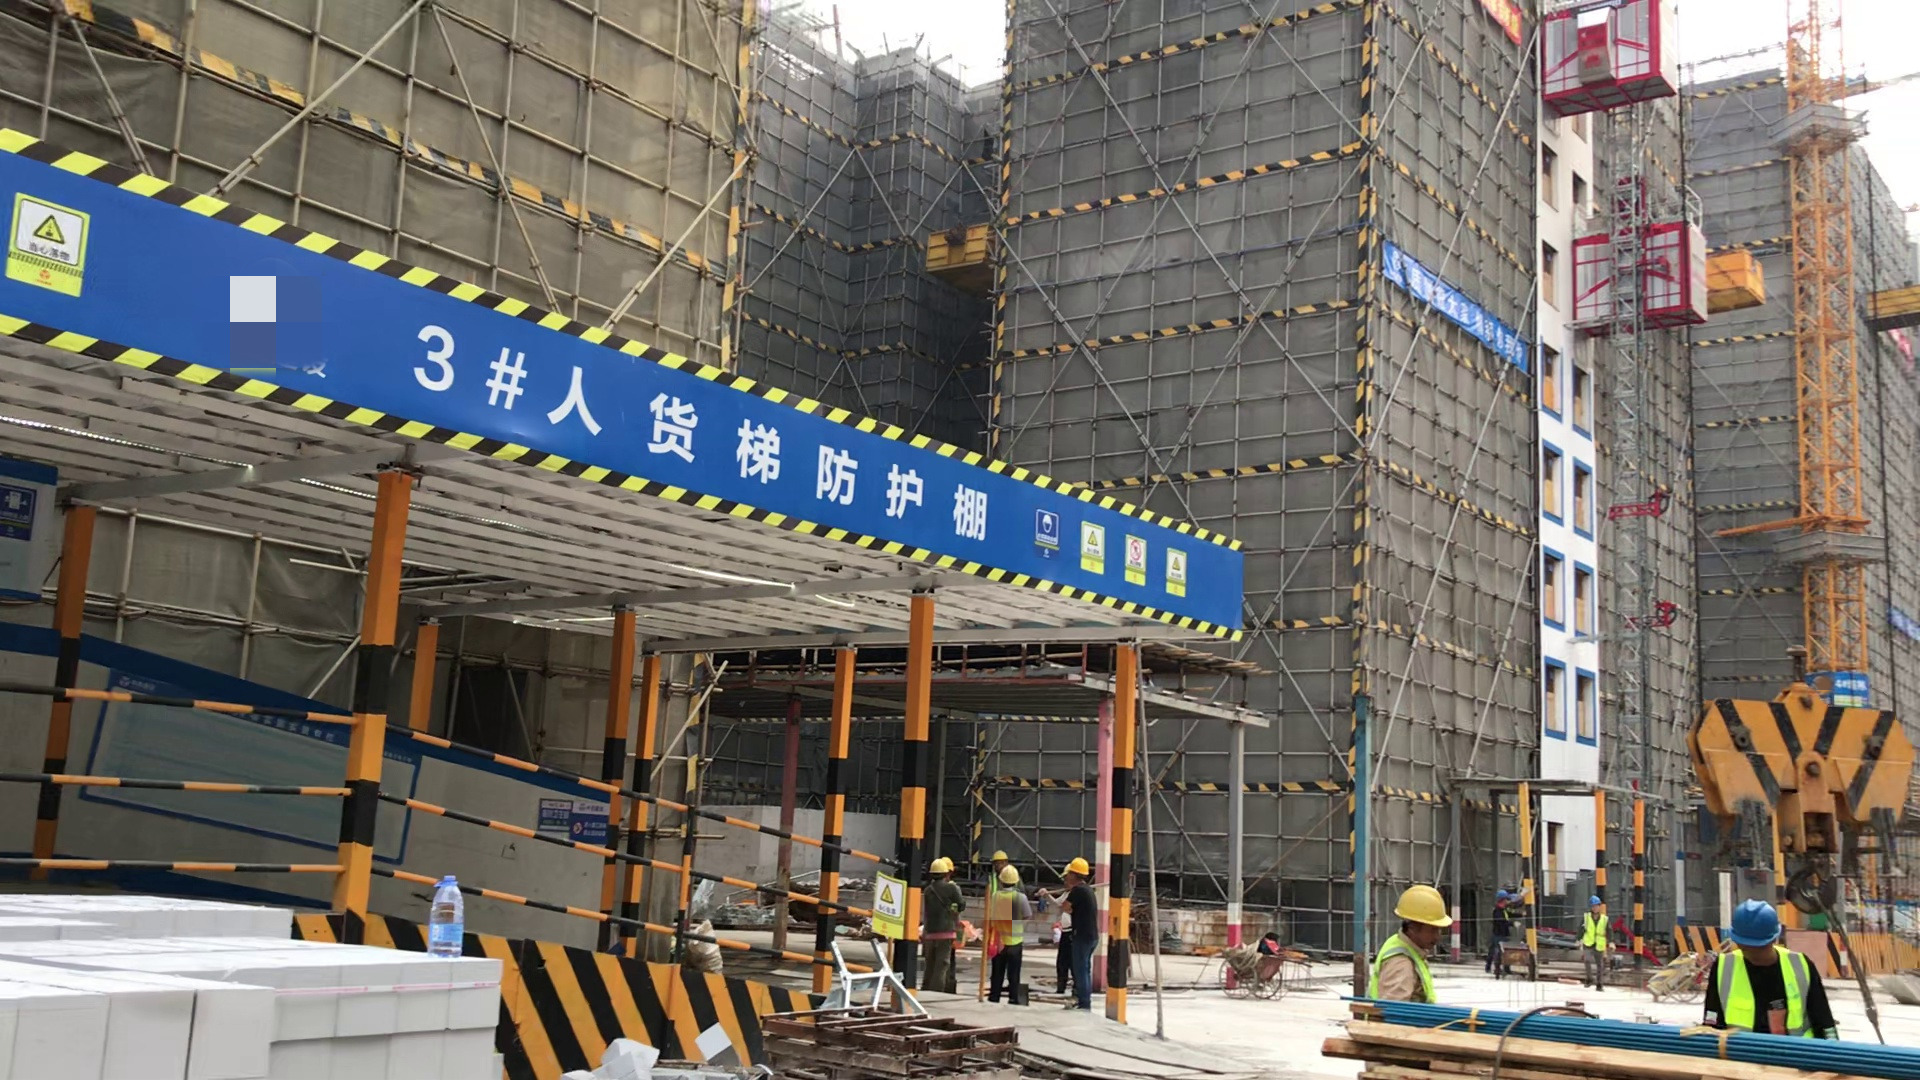brick: (1, 892, 504, 1076)
handcart: (1201, 934, 1301, 1001), (1640, 941, 1721, 1007), (1495, 939, 1537, 978)
helmet: (1729, 900, 1787, 947), (1396, 886, 1455, 932), (996, 864, 1019, 887), (1065, 857, 1090, 879), (930, 855, 951, 878), (989, 848, 1009, 861), (1587, 893, 1603, 907), (1495, 888, 1509, 901)
hook: (1694, 644, 1920, 908)
hopper: (1873, 962, 1920, 1004)
person: (1707, 897, 1837, 1028), (1363, 883, 1454, 1003), (982, 847, 1028, 1006), (1051, 858, 1100, 1009), (926, 853, 962, 993), (1576, 892, 1616, 992), (1486, 884, 1521, 942)
slogan: (1378, 245, 1527, 375), (1026, 501, 1203, 601), (1, 194, 110, 286), (863, 869, 904, 942), (1831, 670, 1872, 707)
vest: (1717, 951, 1811, 1031), (1370, 940, 1437, 1000), (992, 888, 1024, 946), (1584, 911, 1606, 950)
